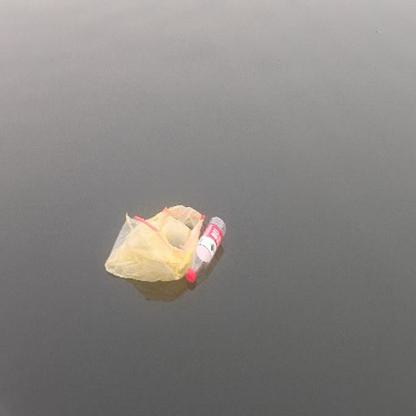plastic bag: (105, 205, 204, 281)
plastic bottle: (186, 215, 226, 282)
